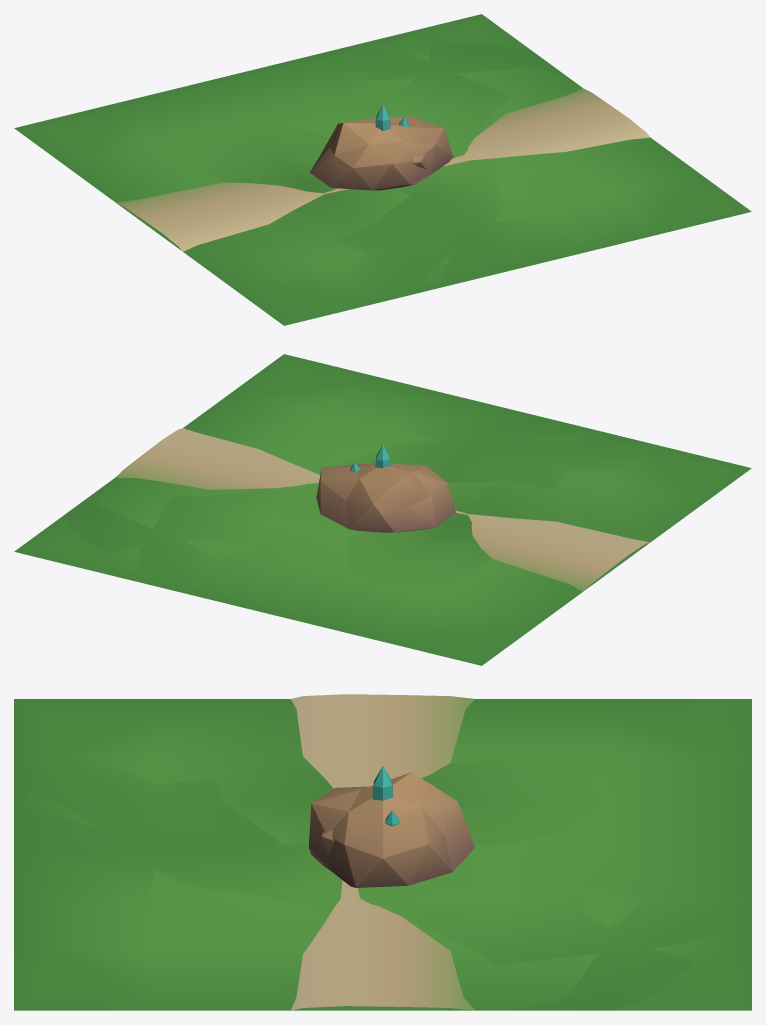
File: Map_Boden.fbx
3 renders of one model, top to bottom at view 1: azimuth 30°, elevation 25°; view 2: azimuth 150°, elevation 25°; view 3: azimuth 270°, elevation 25°, orthographic. The views are drawn at different scales.
Parts seen in each view (by area): view 1: Map_Wiese_B, Map_Wiese_A, Map_Ufer_Gerade, Map_Randfels_A; view 2: Map_Wiese_B, Map_Wiese_A, Map_Ufer_Gerade, Map_Randfels_A; view 3: Map_Wiese_B, Map_Wiese_A, Map_Ufer_Gerade, Map_Randfels_A, Map_Kristall_A.
Part boxes in pixels (x1=…): Map_Wiese_B: x1=14, y1=44, x2=709, y2=325; Map_Wiese_A: x1=62, y1=14, x2=751, y2=303; Map_Ufer_Gerade: x1=116, y1=88, x2=650, y2=251; Map_Randfels_A: x1=310, y1=116, x2=453, y2=190; Map_Wiese_B: x1=66, y1=374, x2=751, y2=665; Map_Wiese_A: x1=14, y1=354, x2=711, y2=647; Map_Ufer_Gerade: x1=115, y1=428, x2=649, y2=591; Map_Randfels_A: x1=316, y1=463, x2=455, y2=532; Map_Wiese_B: x1=14, y1=699, x2=751, y2=1010; Map_Wiese_A: x1=14, y1=699, x2=751, y2=1010; Map_Ufer_Gerade: x1=291, y1=694, x2=474, y2=1010; Map_Randfels_A: x1=308, y1=772, x2=474, y2=887; Map_Kristall_A: x1=372, y1=766, x2=399, y2=826.
Size of the model in its own units: 24 by 3.2 by 24.
